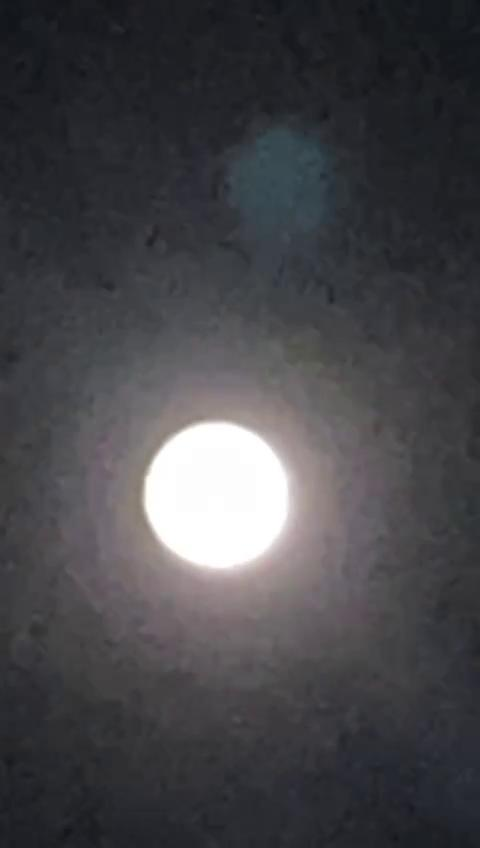moon: (148, 383, 320, 574)
